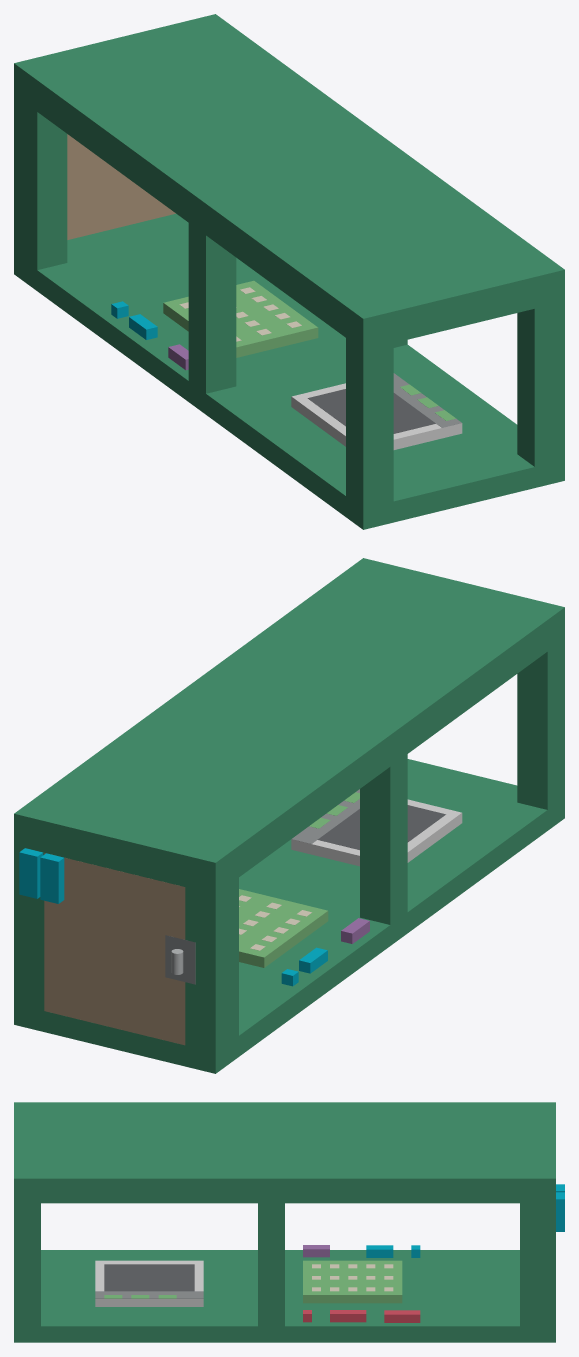
The model's file is CropCare Unit v1.glb.
3 views of the same model, one above another, from view 1: azimuth 30°, elevation 25°; view 2: azimuth 150°, elevation 25°; view 3: azimuth 270°, elevation 25° (orthographic). The views are drawn at different scales.
Visible parts, largest first — view 1: Mesh_Mesh_head_geo001_lambert2SG001; view 2: Mesh_Mesh_head_geo001_lambert2SG001; view 3: Mesh_Mesh_head_geo001_lambert2SG001.
Part boxes in pixels (bbox=[...]): Mesh_Mesh_head_geo001_lambert2SG001: bbox=[14, 14, 564, 529]; Mesh_Mesh_head_geo001_lambert2SG001: bbox=[14, 558, 564, 1073]; Mesh_Mesh_head_geo001_lambert2SG001: bbox=[14, 1102, 564, 1342].
Size of the model in its own units: 20 by 20 by 61.
